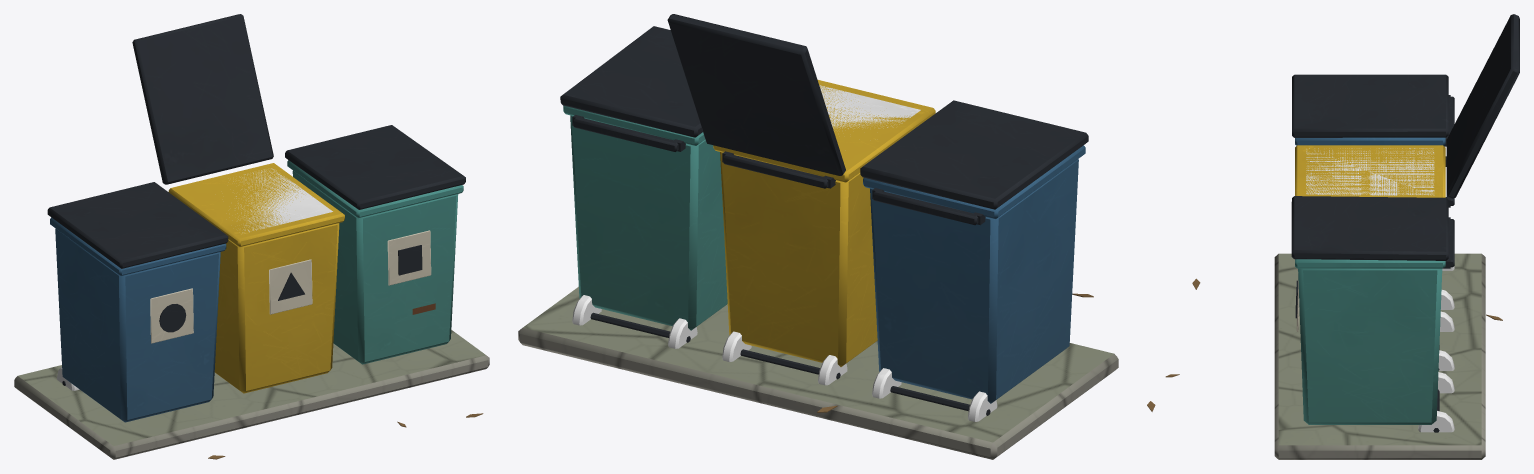
File: recycling_bins.glb
3 views of the same model, side by side, from view 1: azimuth 30°, elevation 25°; view 2: azimuth 150°, elevation 25°; view 3: azimuth 270°, elevation 25° (orthographic). The views are drawn at different scales.
Parts seen in each view (by area): view 1: recycling_bins; view 2: recycling_bins; view 3: recycling_bins.
Part boxes in pixels (x1=…): recycling_bins: x1=14, y1=14, x2=489, y2=459; recycling_bins: x1=518, y1=14, x2=1118, y2=459; recycling_bins: x1=1147, y1=14, x2=1519, y2=459.
Size of the model in its own units: 2.3 by 1.77 by 1.86.
11 materials, 11 textured.
